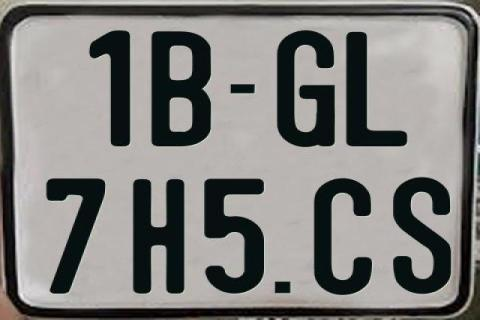0: (204, 177, 267, 295), (46, 177, 106, 296), (89, 29, 131, 147)
B: (151, 31, 216, 148)
C: (311, 178, 371, 298)
G: (276, 31, 339, 149)
H: (132, 179, 182, 297)
L: (344, 30, 405, 150)
S: (390, 176, 450, 294)
